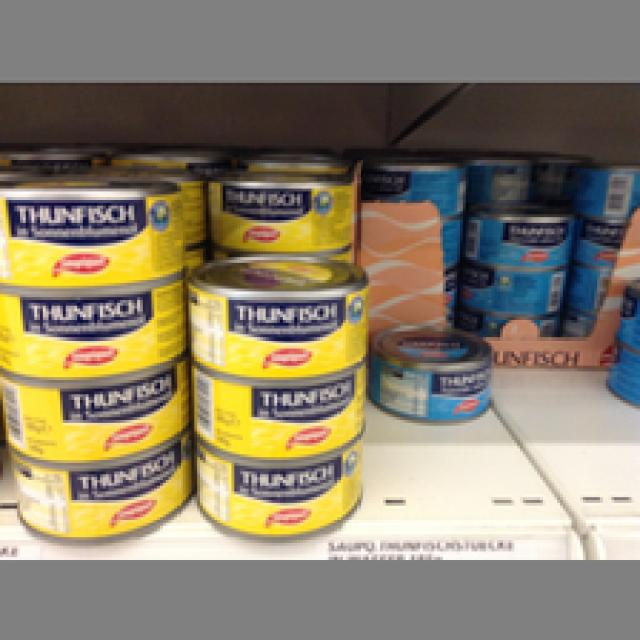groceries: (183, 251, 368, 380), (0, 177, 177, 280), (186, 360, 366, 460), (0, 283, 183, 380), (191, 443, 363, 543), (0, 449, 186, 540), (0, 374, 186, 463), (368, 320, 492, 423), (460, 200, 569, 266)
